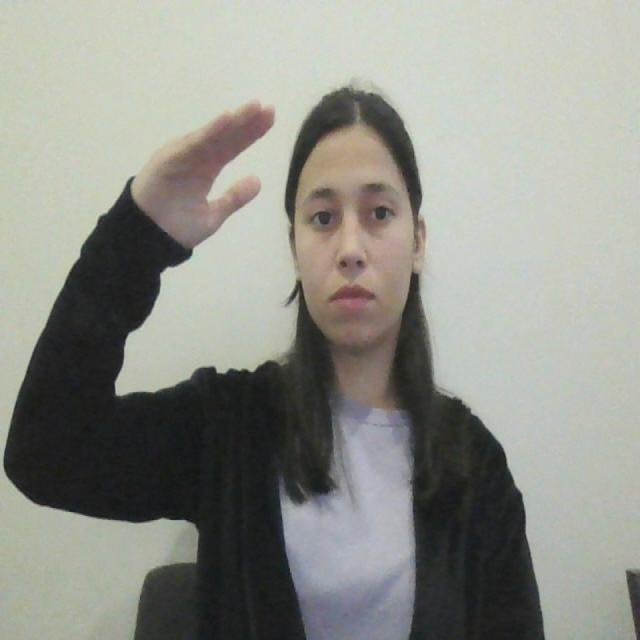Merhaba: (132, 66, 312, 314)
